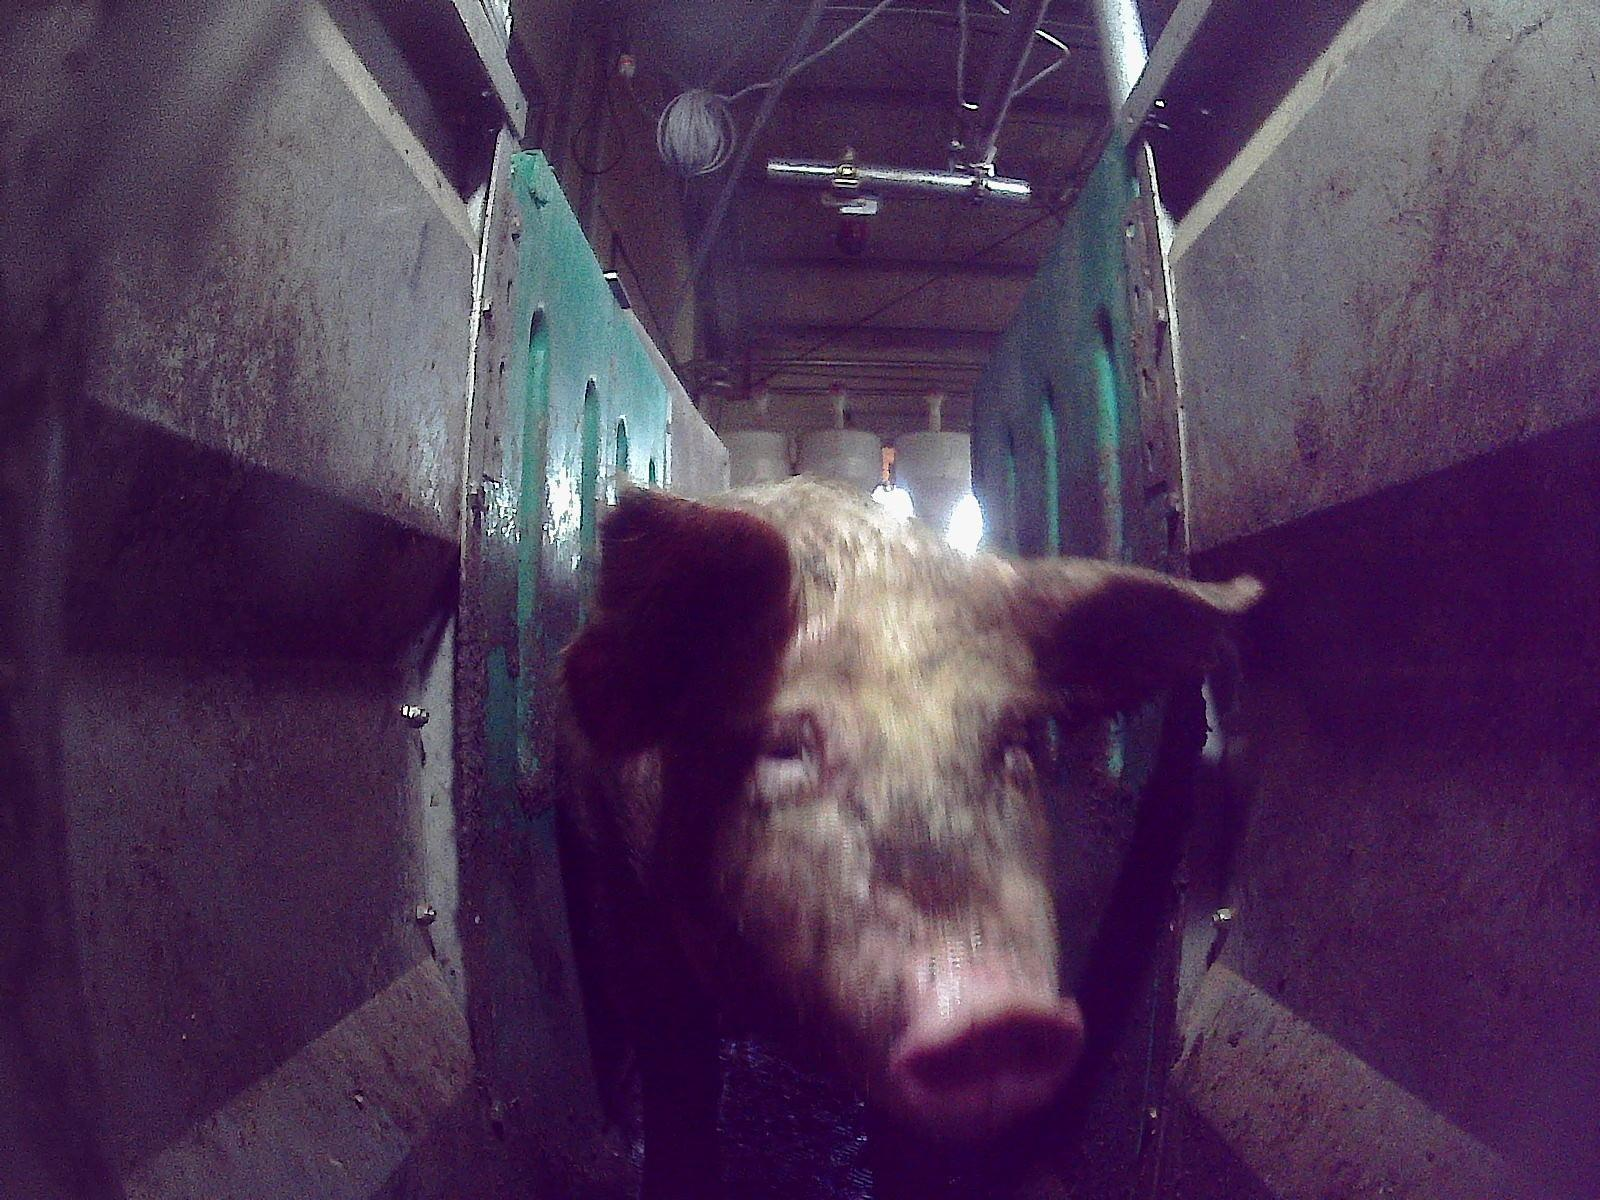Face: (670, 551, 1081, 1138)
